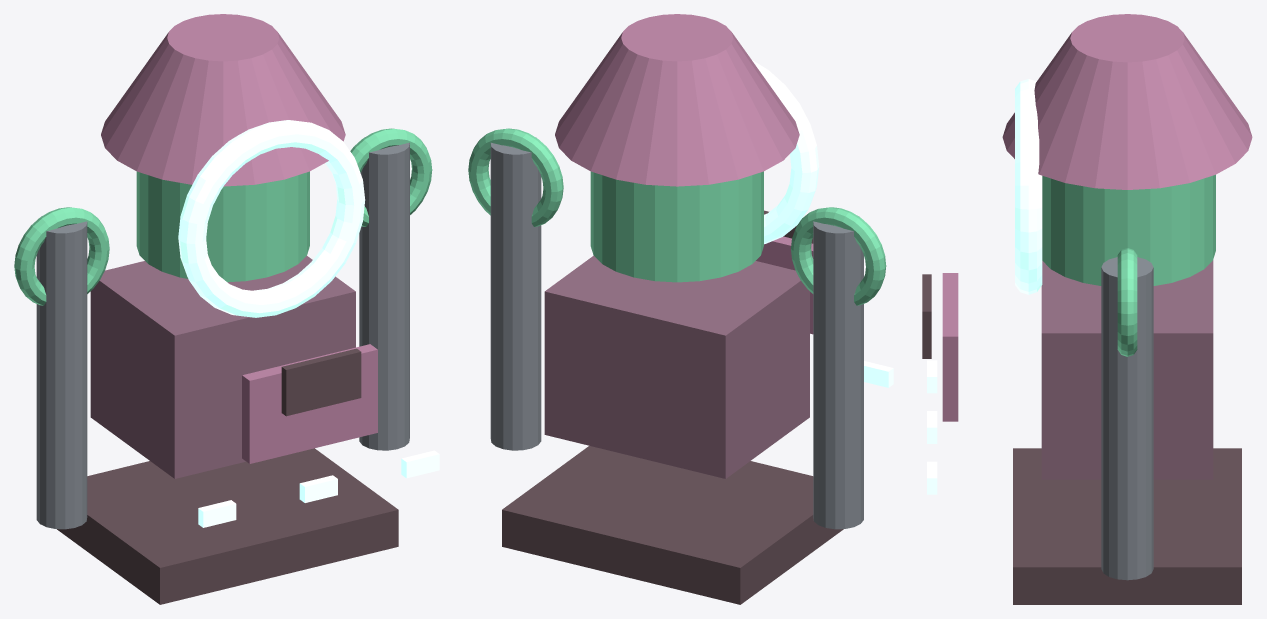
Rendered from asset.glb.
3 renders of one model, left to right at view 1: azimuth 30°, elevation 25°; view 2: azimuth 150°, elevation 25°; view 3: azimuth 270°, elevation 25°, orthographic. The views are drawn at different scales.
Parts seen in each view (by area): view 1: Housing, Foot, TopCap, SidePost_-1, CoreHalo, Core, SidePost_1, FrontInset, ControlFace, SideRing_-1, SideRing_1, FunctionalTrim_1 (+2 smaller); view 2: Housing, Foot, TopCap, Core, SidePost_1, SidePost_-1, CoreHalo, SideRing_-1, SideRing_1, FrontInset, FunctionalTrim_0; view 3: TopCap, Foot, Housing, SidePost_1, Core, CoreHalo, FrontInset, SideRing_1, ControlFace.
Part boxes in pixels (x1,y1,x2,y2): Housing: [90, 256, 355, 478]; Foot: [57, 448, 398, 604]; TopCap: [101, 14, 345, 186]; SidePost_-1: [36, 216, 87, 529]; CoreHalo: [178, 120, 365, 317]; Core: [136, 171, 309, 282]; SidePost_1: [359, 137, 409, 450]; FrontInset: [242, 344, 377, 463]; ControlFace: [281, 348, 361, 416]; SideRing_-1: [14, 207, 109, 305]; SideRing_1: [350, 128, 432, 226]; FunctionalTrim_1: [299, 475, 337, 502]; Housing: [544, 255, 809, 478]; Foot: [502, 446, 843, 604]; TopCap: [555, 14, 799, 186]; Core: [590, 171, 763, 282]; SidePost_1: [490, 137, 541, 450]; SidePost_-1: [813, 216, 863, 529]; CoreHalo: [752, 60, 819, 244]; SideRing_-1: [791, 207, 886, 305]; SideRing_1: [468, 128, 563, 226]; FrontInset: [756, 236, 813, 334]; FunctionalTrim_0: [864, 361, 893, 387]; TopCap: [1002, 14, 1252, 189]; Foot: [1013, 448, 1241, 604]; Housing: [1041, 260, 1213, 479]; SidePost_1: [1101, 257, 1153, 580]; Core: [1042, 174, 1215, 285]; CoreHalo: [1015, 79, 1042, 294]; FrontInset: [942, 273, 958, 421]; SideRing_1: [1117, 248, 1137, 356]; ControlFace: [922, 274, 931, 358].
Size of the model in its own units: 1.88 by 2.15 by 1.27.
